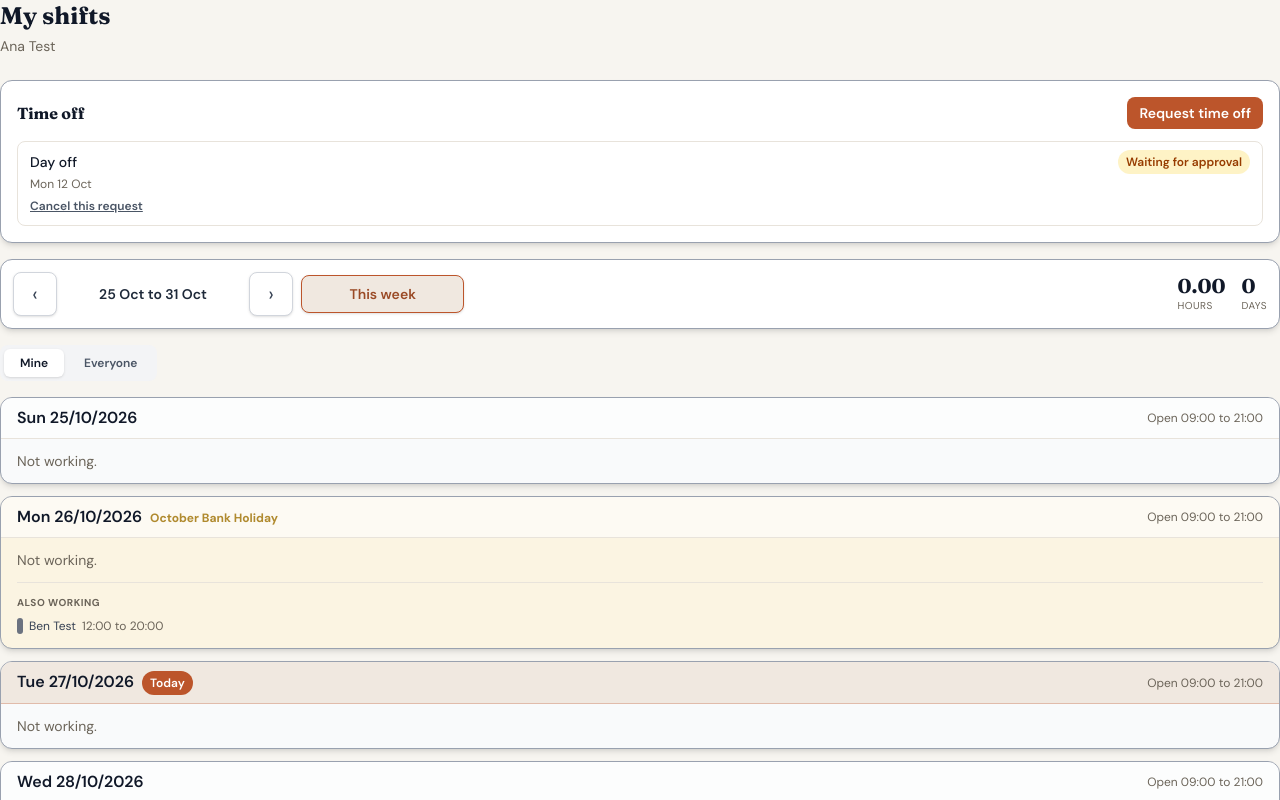
Scenario: asks about other people's shifts › marks the shift without reading anybody else's request
Click the button "Everyone".
click(111, 363)  # box 68,349 -> 153,377
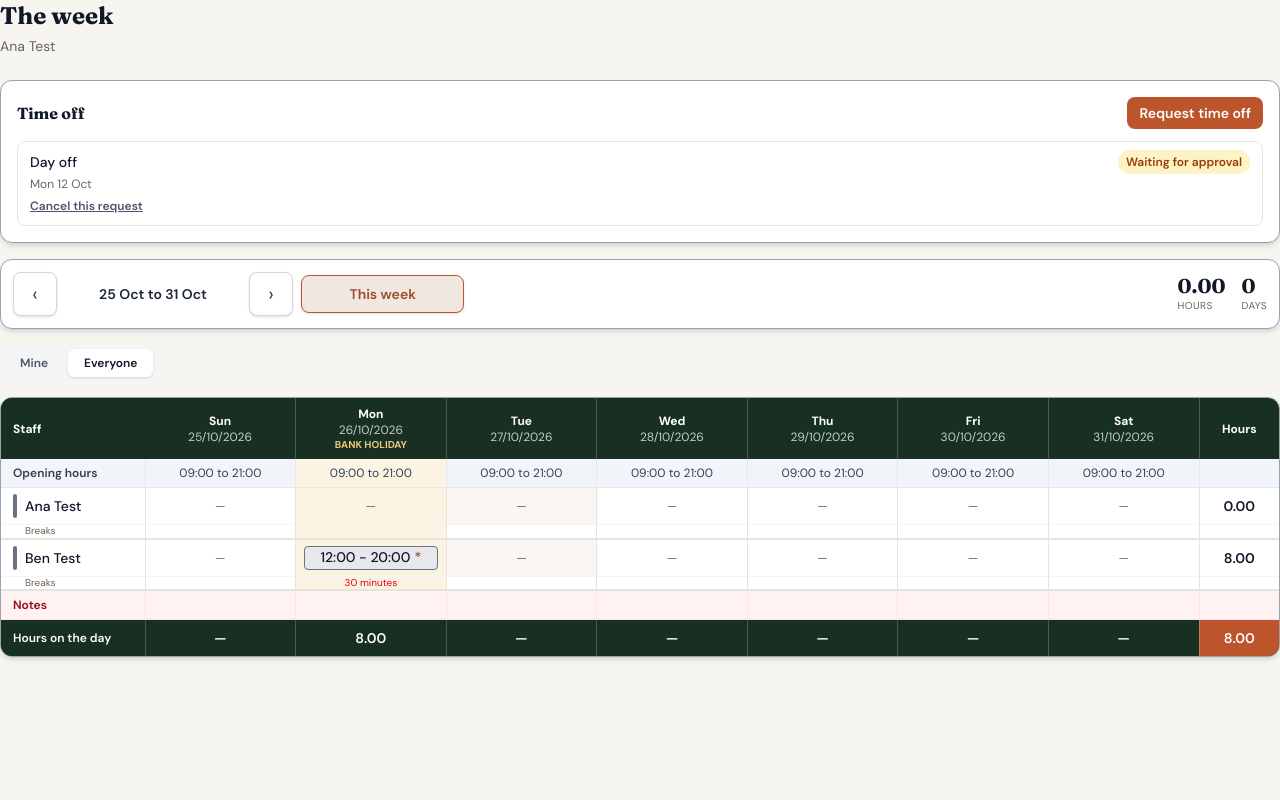
Result: the text titled "Somebody has asked about this" is shown at 414,548 -> 421,566
